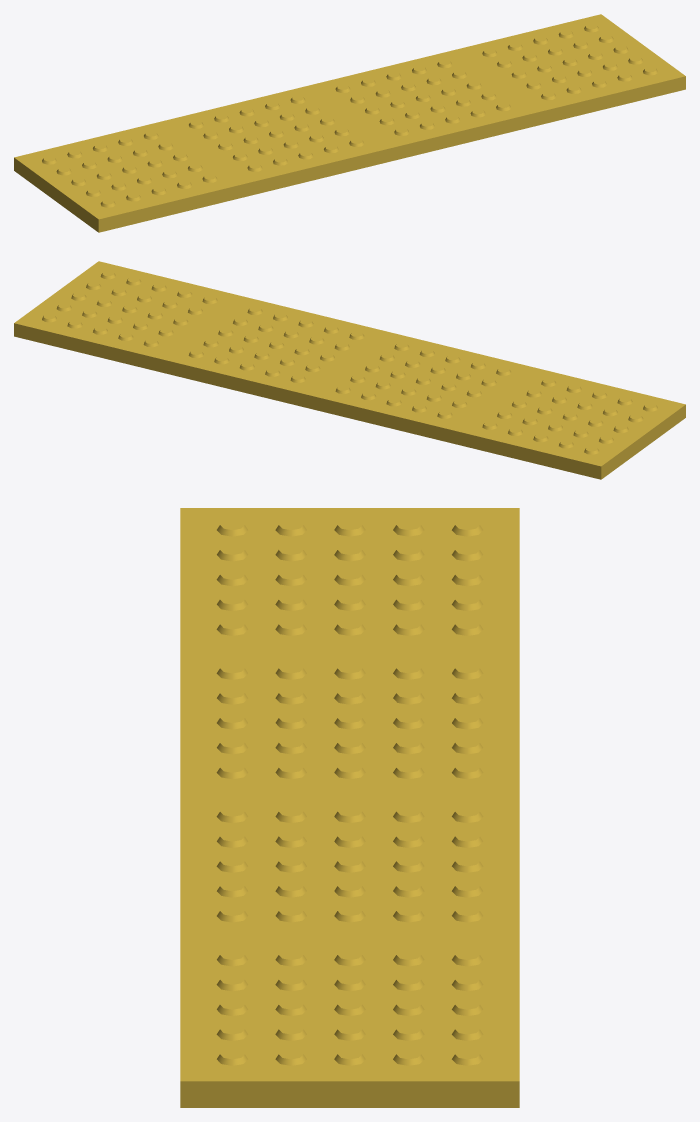
The model's file is tactile-warning-v1.glb.
3 views of the same model, one above another, from view 1: azimuth 30°, elevation 25°; view 2: azimuth 150°, elevation 25°; view 3: azimuth 270°, elevation 25° (orthographic). The views are drawn at different scales.
Visible parts, largest first — view 1: 점형 점자블록 · 경고 띠; view 2: 점형 점자블록 · 경고 띠; view 3: 점형 점자블록 · 경고 띠.
Boxes of the visible parts, bbox=[...] form: 점형 점자블록 · 경고 띠: bbox=[14, 14, 685, 232]; 점형 점자블록 · 경고 띠: bbox=[14, 261, 685, 479]; 점형 점자블록 · 경고 띠: bbox=[180, 508, 519, 1107].
Size of the model in its own units: 1.2 by 0.031 by 0.3.
